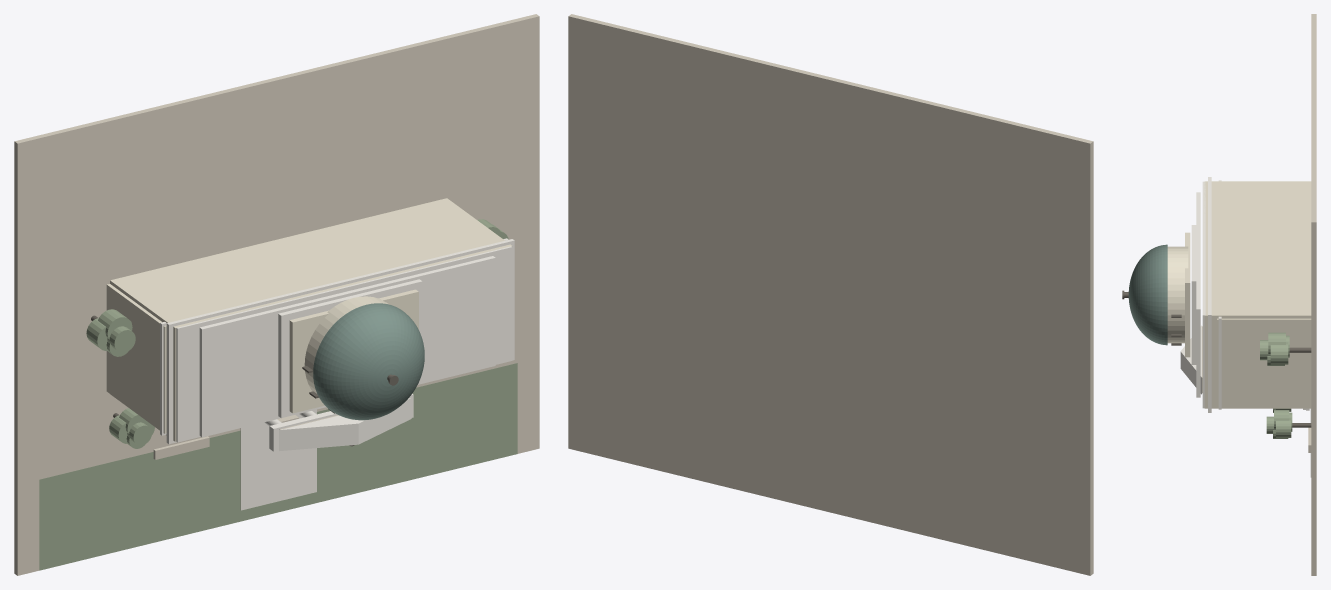
Rendered from academic-building-chatgpt.glb.
The picture shows the model from 3 angles, left to right: view 1: azimuth 30°, elevation 25°; view 2: azimuth 150°, elevation 25°; view 3: azimuth 270°, elevation 25°; orthographic projection. The views are drawn at different scales.
Visible parts, largest first — view 1: plaza, grass_front, main_body, cornice_2, copper_dome, cornice_1, left_wing, walk, cornice, portico_pediment, drum_tier, drum_base (+3 smaller); view 2: plaza; view 3: main_body, right_wing, plaza, copper_dome, drum_cylinder, cornice_2, cornice, drum_base, cornice_1, drum_tier, portico_pediment, tree_crown_26 (+2 smaller).
Boxes of the visible parts, <box> form: plaza: <box>14,14,539,575</box>; grass_front: <box>39,363,517,570</box>; main_body: <box>110,198,512,441</box>; cornice_2: <box>199,256,495,437</box>; copper_dome: <box>313,303,424,420</box>; cornice_1: <box>176,246,512,442</box>; left_wing: <box>106,284,166,433</box>; walk: <box>240,409,316,510</box>; cornice: <box>166,239,514,444</box>; portico_pediment: <box>279,398,411,451</box>; drum_tier: <box>289,289,418,413</box>; drum_base: <box>278,279,422,417</box>; plaza: <box>568,14,1093,575</box>; main_body: <box>1204,181,1311,408</box>; right_wing: <box>1217,318,1311,407</box>; plaza: <box>1311,14,1316,575</box>; copper_dome: <box>1128,244,1167,345</box>; drum_cylinder: <box>1167,246,1188,343</box>; cornice_2: <box>1196,192,1200,397</box>; cornice: <box>1208,177,1211,412</box>; drum_base: <box>1191,225,1196,364</box>; cornice_1: <box>1202,181,1205,408</box>; drum_tier: <box>1185,232,1190,357</box>; portico_pediment: <box>1180,325,1201,394</box>; tree_crown_26: <box>1270,342,1288,364</box>.
Size of the model in its own units: 48 by 38 by 18.91.
